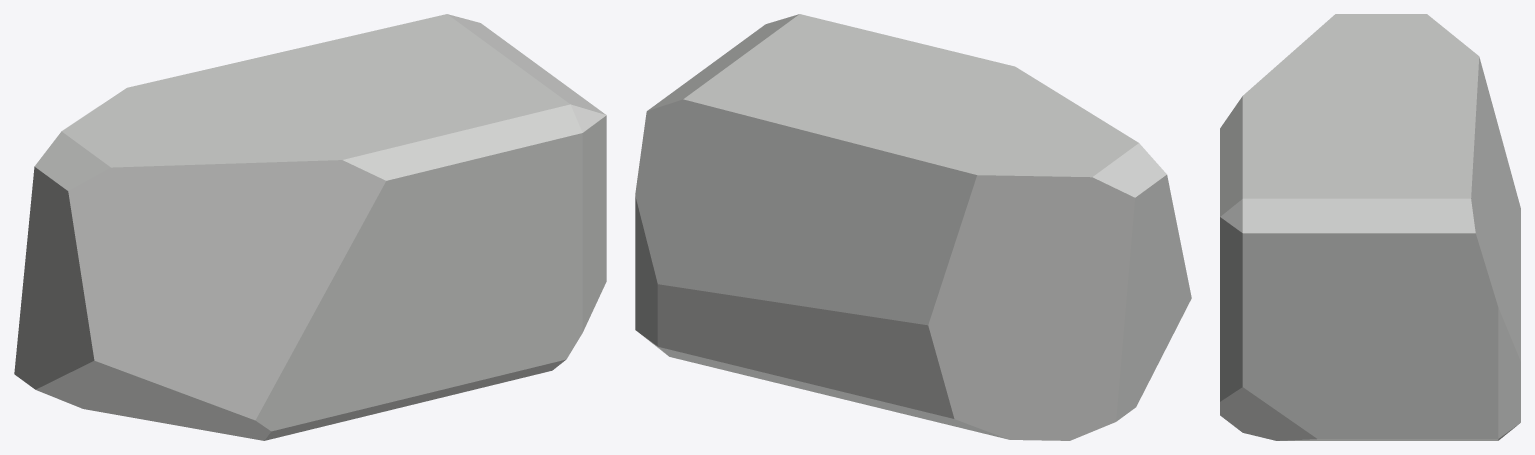
File: Rock_Block_m_04.fbx
The picture shows the model from 3 angles, left to right: view 1: azimuth 30°, elevation 25°; view 2: azimuth 150°, elevation 25°; view 3: azimuth 270°, elevation 25°; orthographic projection. The views are drawn at different scales.
Parts seen in each view (by area): view 1: Rock_Block_m_04; view 2: Rock_Block_m_04; view 3: Rock_Block_m_04.
Part boxes in pixels (x1,y1,x2,y2): Rock_Block_m_04: [14, 14, 606, 440]; Rock_Block_m_04: [635, 14, 1191, 440]; Rock_Block_m_04: [1220, 14, 1520, 440].
Bounding box in the file's own units: 122 × 63.36 × 71.28.
